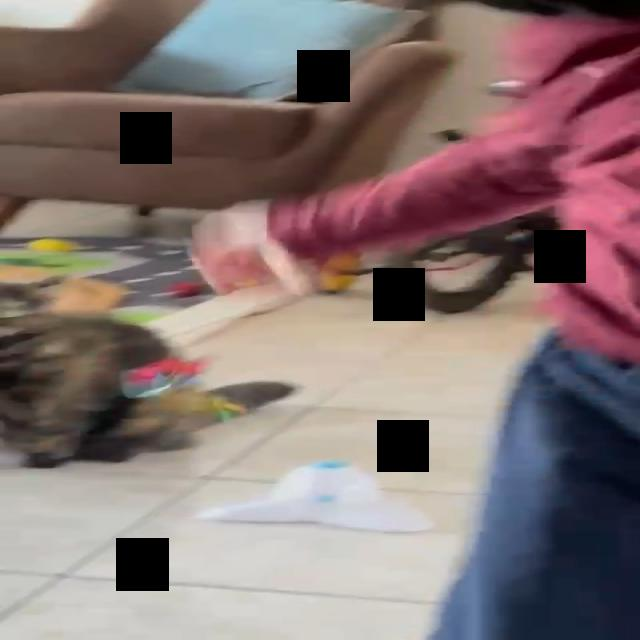authorized: (0, 274, 299, 468)
